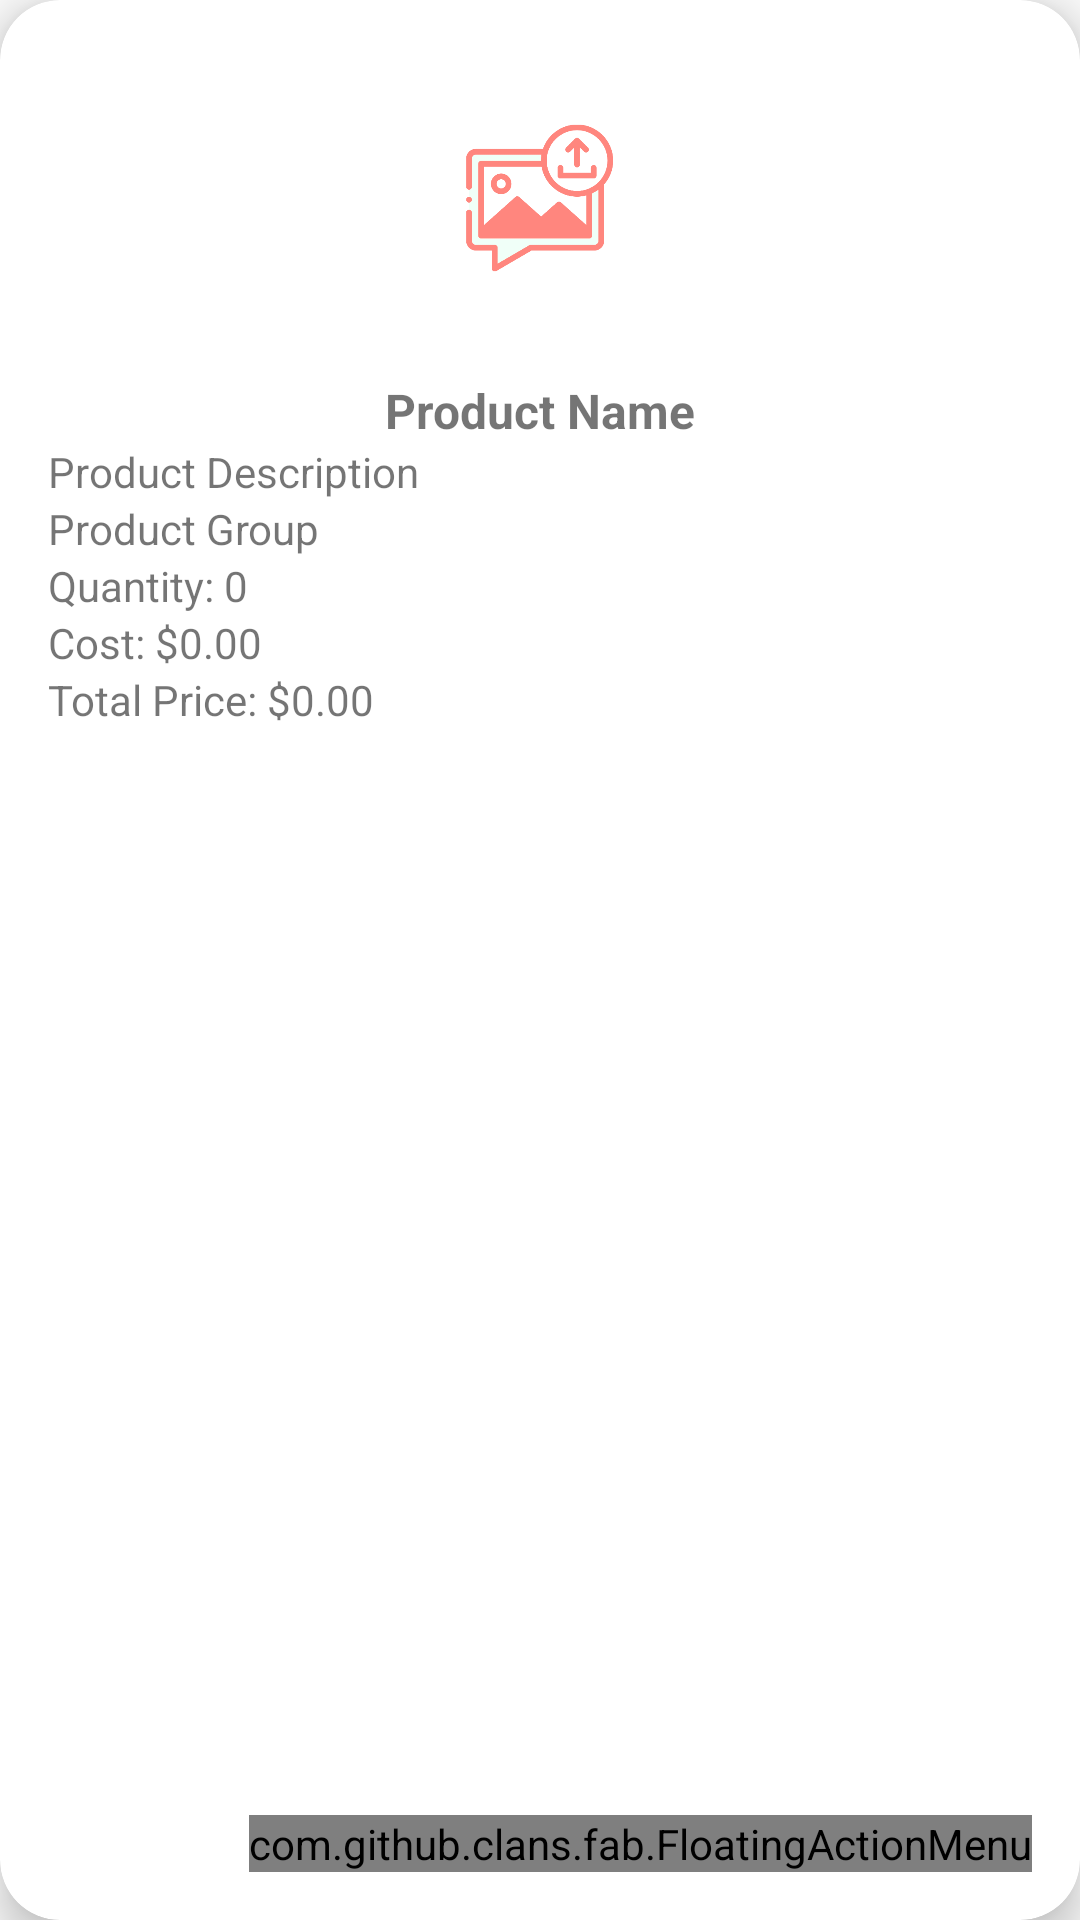

Icon click points for this 1080*1920 phone screenshot, format (x=x, y=y):
uploadimg: (x=539, y=198)
